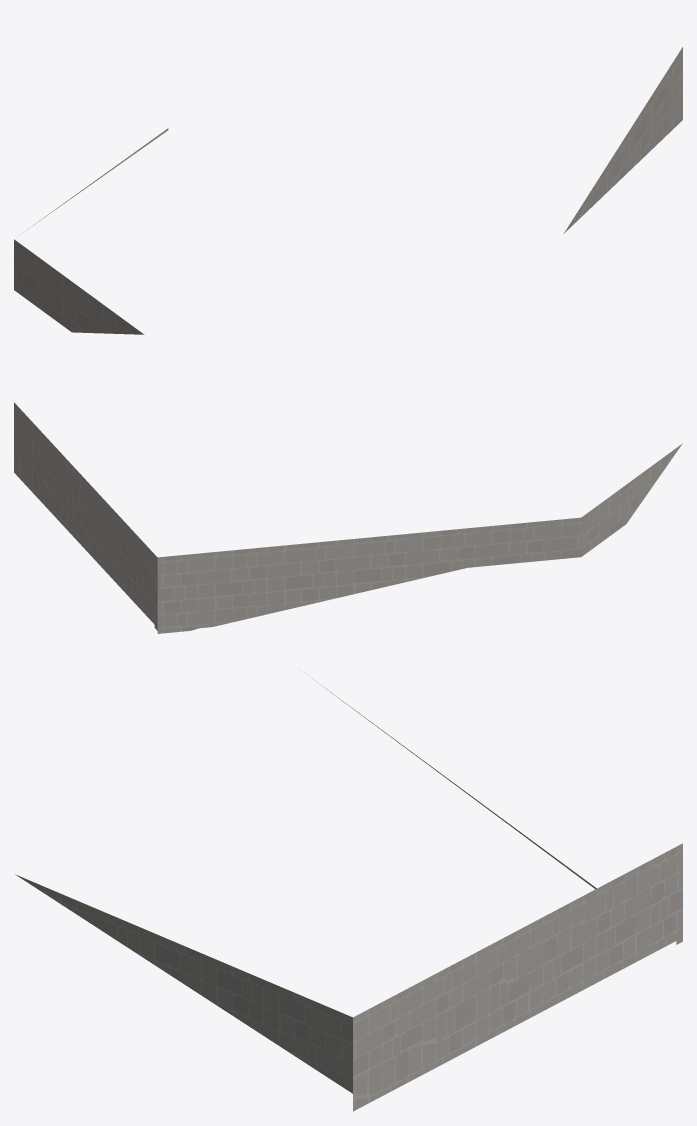
The model's file is kd_connection_town-ground_surface_3_28.glb.
3 renders of one model, top to bottom at view 1: azimuth 30°, elevation 25°; view 2: azimuth 150°, elevation 25°; view 3: azimuth 270°, elevation 25°, orthographic. The views are drawn at different scales.
Parts seen in each view (by area): view 1: kd_connection_town-ground_surface_3_28; view 2: kd_connection_town-ground_surface_3_28; view 3: kd_connection_town-ground_surface_3_28.
Part boxes in pixels (x1,y1,x2,y2): kd_connection_town-ground_surface_3_28: [14, 47, 682, 334]; kd_connection_town-ground_surface_3_28: [14, 402, 682, 633]; kd_connection_town-ground_surface_3_28: [15, 678, 682, 1111].
Bounding box in the file's own units: 6.47 × 0.8699 × 5.15.
Materials: 1 (1 with a texture image).
